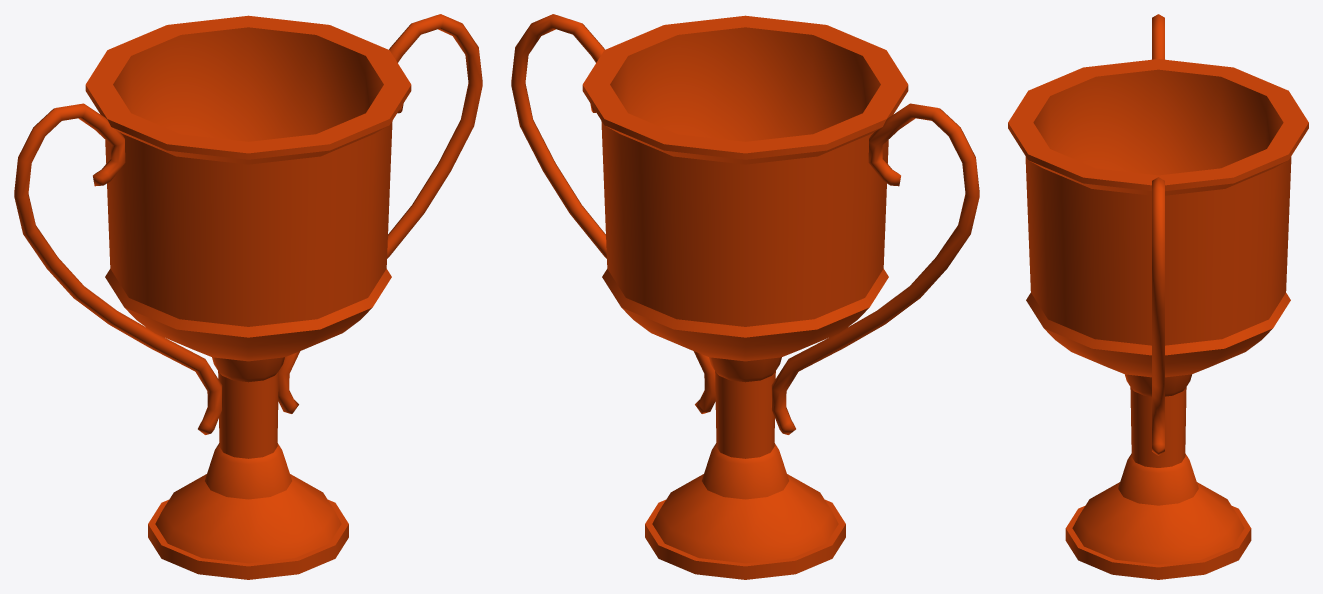
File: copa_Generica_1.FBX
3 renders of one model, left to right at view 1: azimuth 30°, elevation 25°; view 2: azimuth 150°, elevation 25°; view 3: azimuth 270°, elevation 25°, orthographic. The views are drawn at different scales.
Visible parts, largest first — view 1: copa_Generica_1; view 2: copa_Generica_1; view 3: copa_Generica_1.
Part boxes in pixels (x1,y1,x2,y2): copa_Generica_1: [14, 14, 482, 579]; copa_Generica_1: [511, 14, 979, 579]; copa_Generica_1: [1008, 14, 1308, 579].
Size of the model in its own units: 94.66 by 92 by 57.01.
